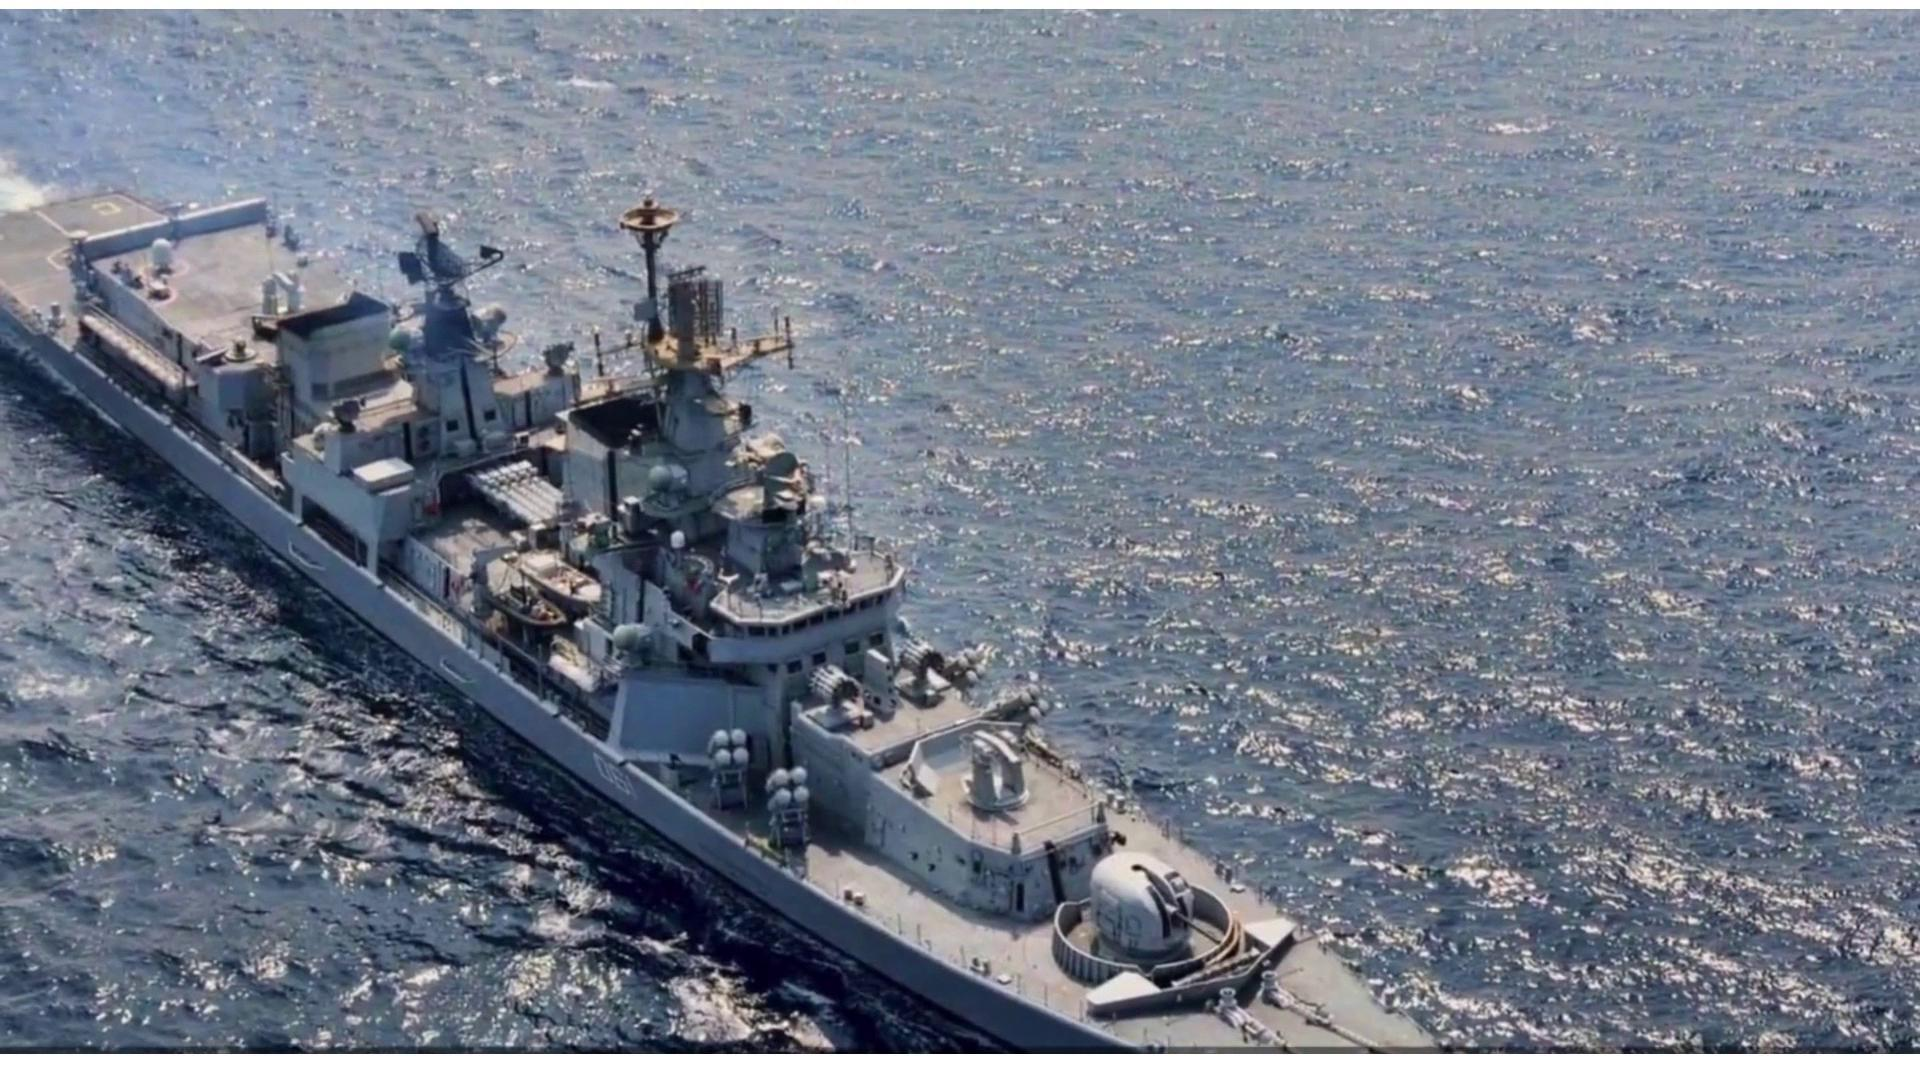OCR: (580, 737, 658, 816)
